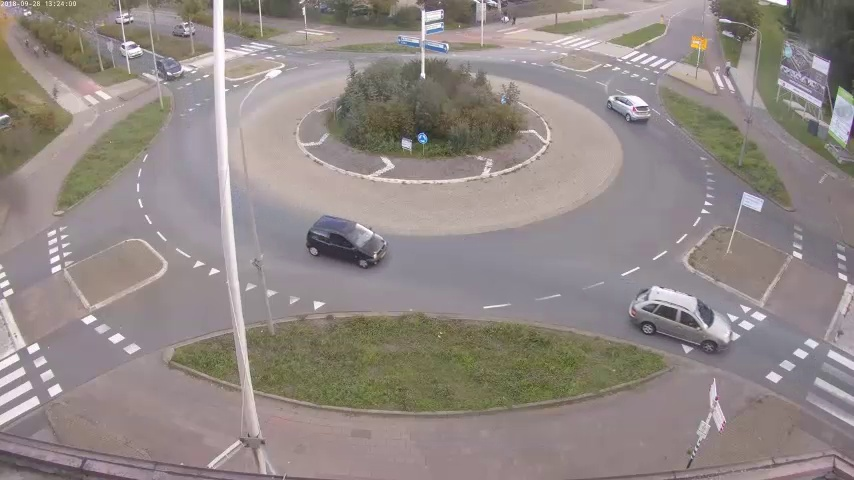car: (627, 287, 736, 351), (305, 213, 385, 271), (605, 91, 649, 121), (154, 52, 178, 84), (116, 39, 141, 60), (170, 19, 196, 35), (114, 12, 134, 25)
